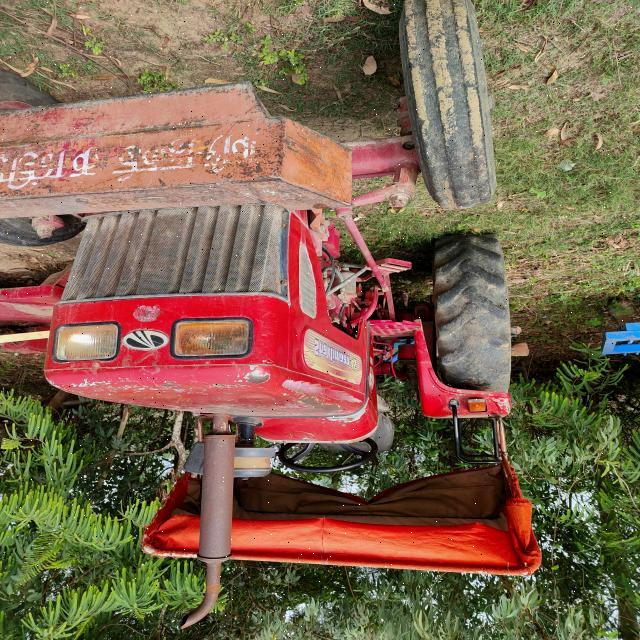Tratores - v5 YOLO V8L 2024-11-13: (0, 0, 553, 629)
